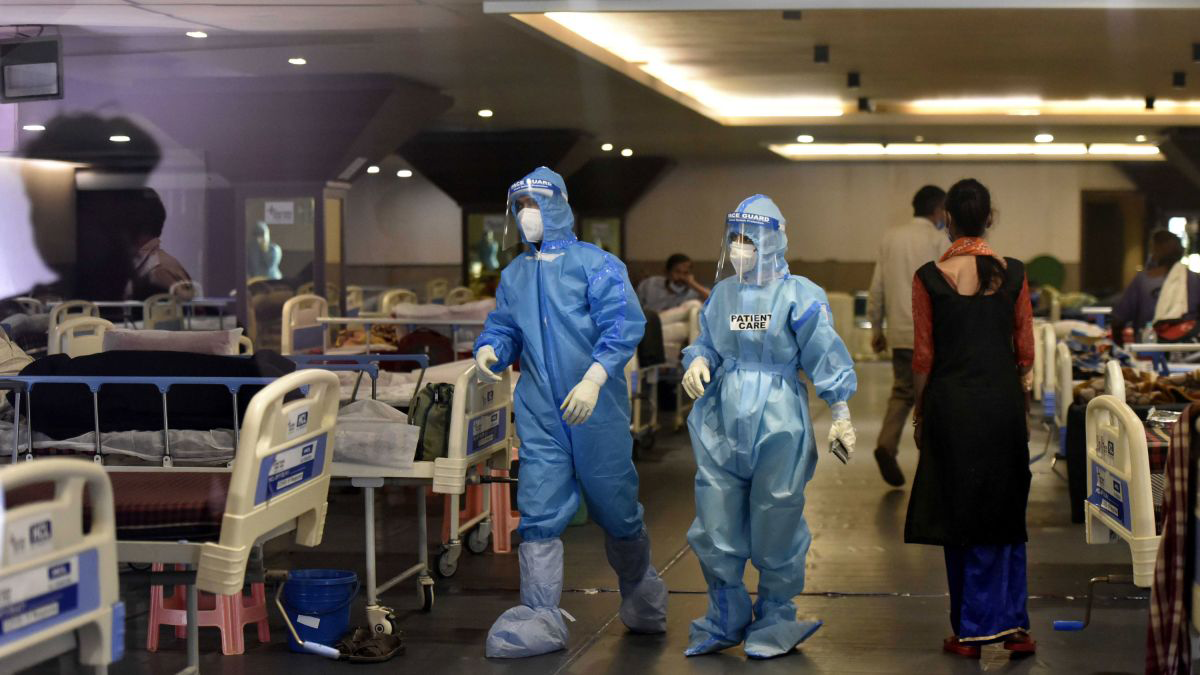Coverall: (474, 166, 663, 609), (677, 183, 844, 626)
Gloves: (555, 355, 609, 433), (825, 399, 866, 463), (679, 352, 713, 401), (471, 344, 506, 385)
with_mask: (514, 195, 550, 243), (726, 233, 761, 280)
